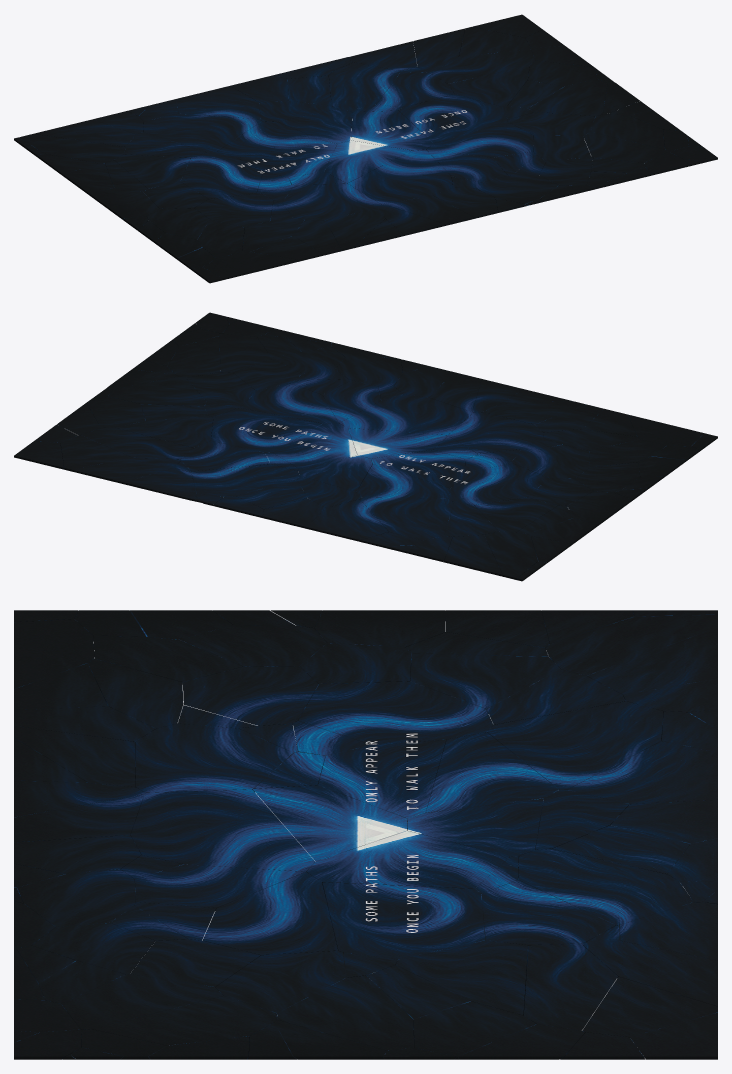
The model's file is puzzle.glb.
3 renders of one model, top to bottom at view 1: azimuth 30°, elevation 25°; view 2: azimuth 150°, elevation 25°; view 3: azimuth 270°, elevation 25°, orthographic. The views are drawn at different scales.
Parts seen in each view (by area): view 1: Plane_cell, Plane_cell.076, Plane_cell.095, Plane_cell.055, Plane_cell.054, Plane_cell.024, Plane_cell.075, Plane_cell.065, Plane_cell.009, Plane_cell.060, Plane_cell.002, Plane_cell.049 (+59 smaller); view 2: Plane_cell, Plane_cell.076, Plane_cell.095, Plane_cell.055, Plane_cell.054, Plane_cell.024, Plane_cell.075, Plane_cell.065, Plane_cell.009, Plane_cell.002, Plane_cell.049, Plane_cell.060 (+58 smaller); view 3: Plane_cell, Plane_cell.076, Plane_cell.095, Plane_cell.055, Plane_cell.054, Plane_cell.024, Plane_cell.075, Plane_cell.065, Plane_cell.009, Plane_cell.002, Plane_cell.060, Plane_cell.049 (+69 smaller).
Part boxes in pixels (x1,y1,x2,y2): Plane_cell: (347,149,452,204); Plane_cell.076: (398,94,508,143); Plane_cell.095: (143,113,261,152); Plane_cell.055: (180,151,263,199); Plane_cell.054: (282,183,380,220); Plane_cell.024: (328,62,400,110); Plane_cell.075: (426,121,533,157); Plane_cell.065: (351,110,433,150); Plane_cell.009: (237,141,337,177); Plane_cell.060: (217,121,325,157); Plane_cell.002: (324,140,411,183); Plane_cell.049: (176,86,260,119); Plane_cell: (339,394,472,435); Plane_cell.076: (211,408,322,452); Plane_cell.095: (360,497,453,540); Plane_cell.055: (448,463,548,505); Plane_cell.054: (448,412,543,453); Plane_cell.024: (191,464,299,497); Plane_cell.075: (240,383,338,423); Plane_cell.065: (273,423,357,468); Plane_cell.009: (371,449,465,488); Plane_cell.002: (348,428,447,458); Plane_cell.049: (306,499,388,541); Plane_cell.060: (356,464,450,498); Plane_cell: (130,789,315,872); Plane_cell.076: (322,882,485,960); Plane_cell.095: (487,701,663,789); Plane_cell.055: (298,681,493,744); Plane_cell.054: (135,723,293,792); Plane_cell.024: (518,849,693,925); Plane_cell.075: (202,872,337,955); Plane_cell.065: (306,831,509,888); Plane_cell.009: (317,739,445,822); Plane_cell.002: (253,785,407,861); Plane_cell.060: (425,732,558,812); Plane_cell.049: (567,741,717,804).
Bounding box in the file's own units: 6 × 0.02 × 4.
Materials: 1 (1 with a texture image).
